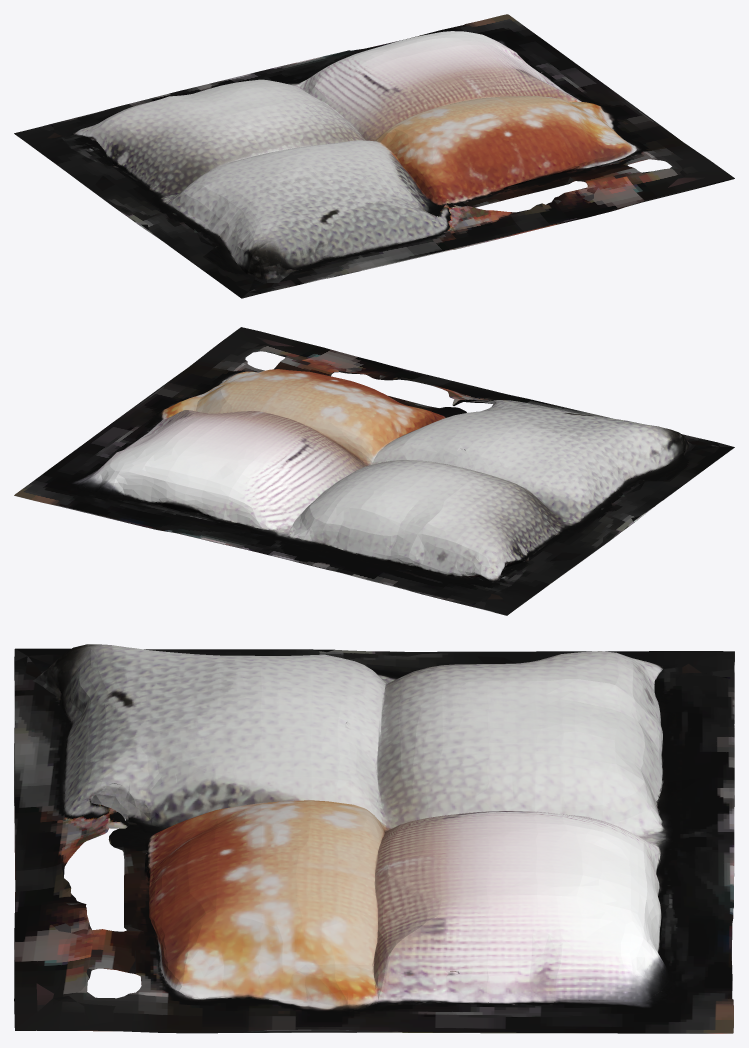
Rendered from gen_8a19c24c8de8.glb.
The picture shows the model from 3 angles, top to bottom: view 1: azimuth 30°, elevation 25°; view 2: azimuth 150°, elevation 25°; view 3: azimuth 270°, elevation 25°; orthographic projection. The views are drawn at different scales.
Parts seen in each view (by area): view 1: world; view 2: world; view 3: world.
Boxes of the visible parts, box(x1,y1,x2,y2) form: world: box(14, 14, 734, 298); world: box(14, 327, 734, 615); world: box(14, 644, 734, 1033).
Size of the model in its own units: 1 by 0.0871 by 0.8001.
Materials: 1 (1 with a texture image).
